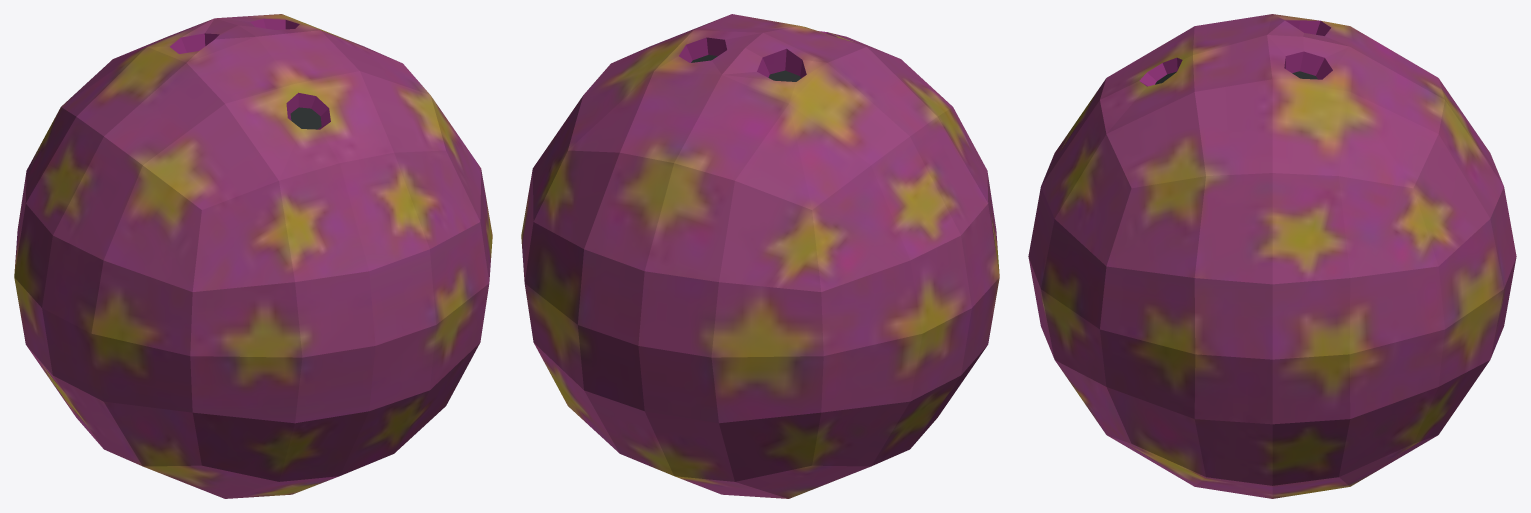
Rendered from SM_Prop_Bowling_Ball_01.glb.
3 renders of one model, left to right at view 1: azimuth 30°, elevation 25°; view 2: azimuth 150°, elevation 25°; view 3: azimuth 270°, elevation 25°, orthographic.
Visible parts, largest first — view 1: SM_Prop_Bowling_Ball_01; view 2: SM_Prop_Bowling_Ball_01; view 3: SM_Prop_Bowling_Ball_01.
Boxes of the visible parts, left/top/right/bottom form: SM_Prop_Bowling_Ball_01: left=14, top=14, right=492, bottom=498; SM_Prop_Bowling_Ball_01: left=521, top=14, right=999, bottom=498; SM_Prop_Bowling_Ball_01: left=1028, top=14, right=1516, bottom=498.
Bounding box in the file's own units: 25.58 × 25.6 × 25.58.
1 material, 1 textured.
